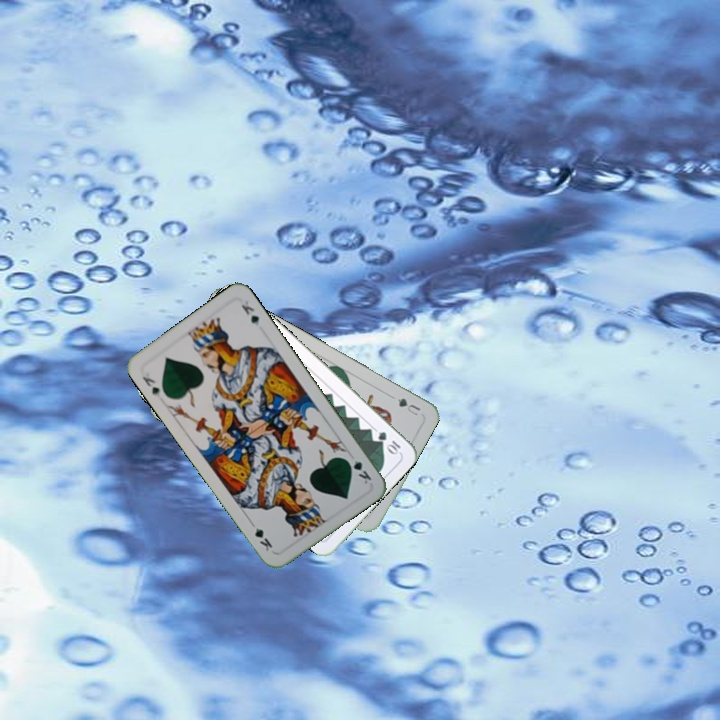G10: (374, 427, 403, 457)
GK: (341, 450, 374, 487), (138, 372, 164, 400)
GU: (393, 394, 423, 418)
